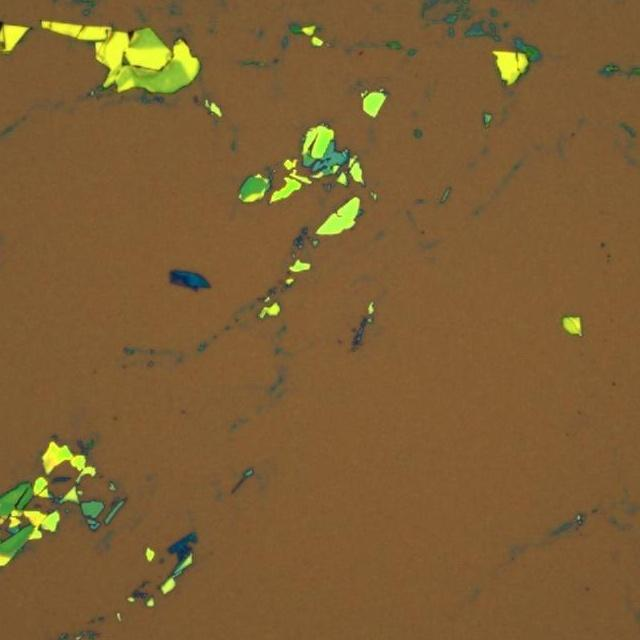monolayer-eWW4: (177, 278, 184, 284)
